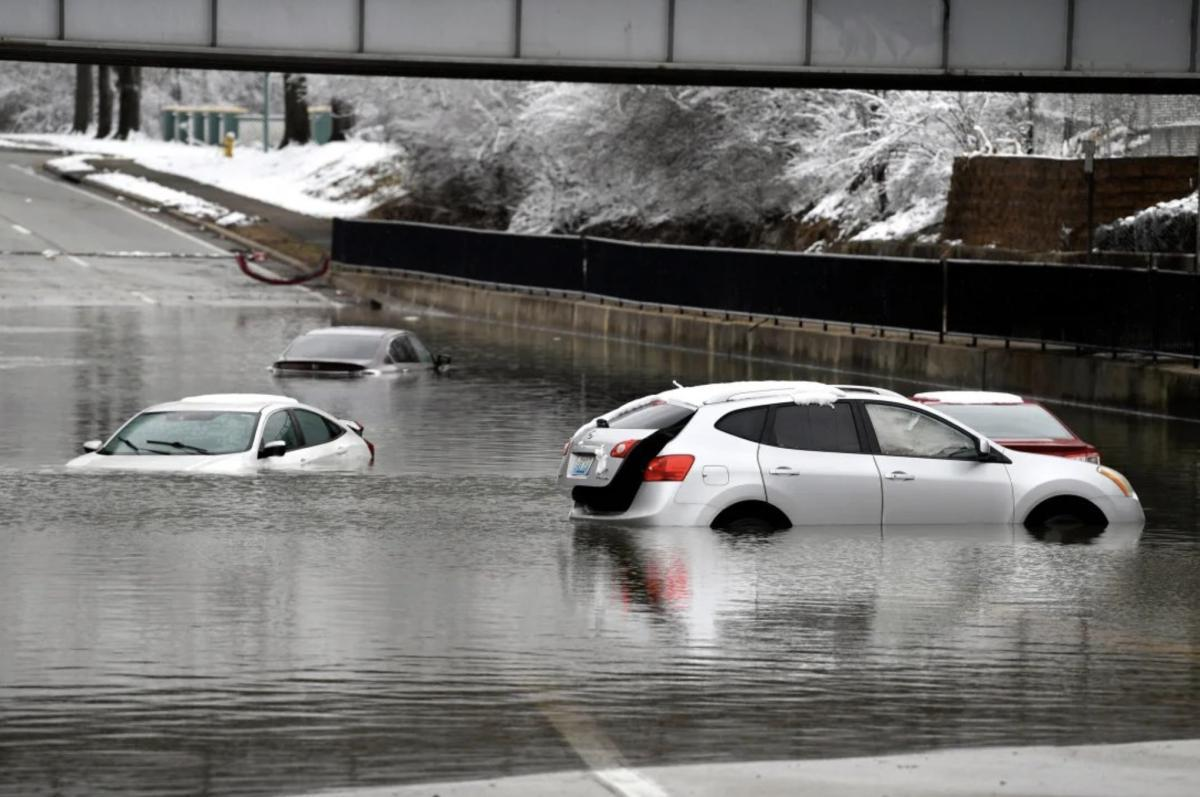water: (0, 306, 1198, 796), (5, 466, 368, 792), (2, 304, 973, 418)
